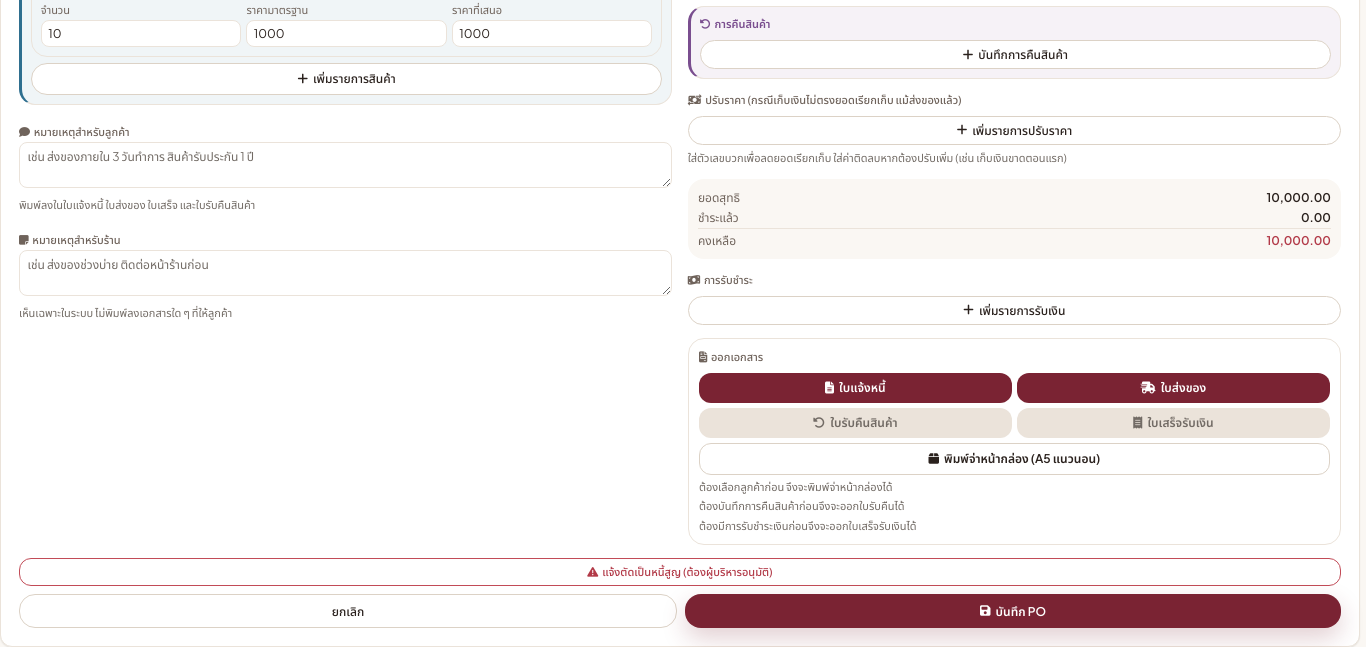
Test: WholesaleDetail — เอกสารขายส่ง › asks for การจัดส่ง before ใบส่งของ is issued the first time
(page scrolled)
Click the button "ใบส่งของ".
click(1173, 388)  # box x1=1017 y1=373 x2=1330 y2=403
(page scrolled)
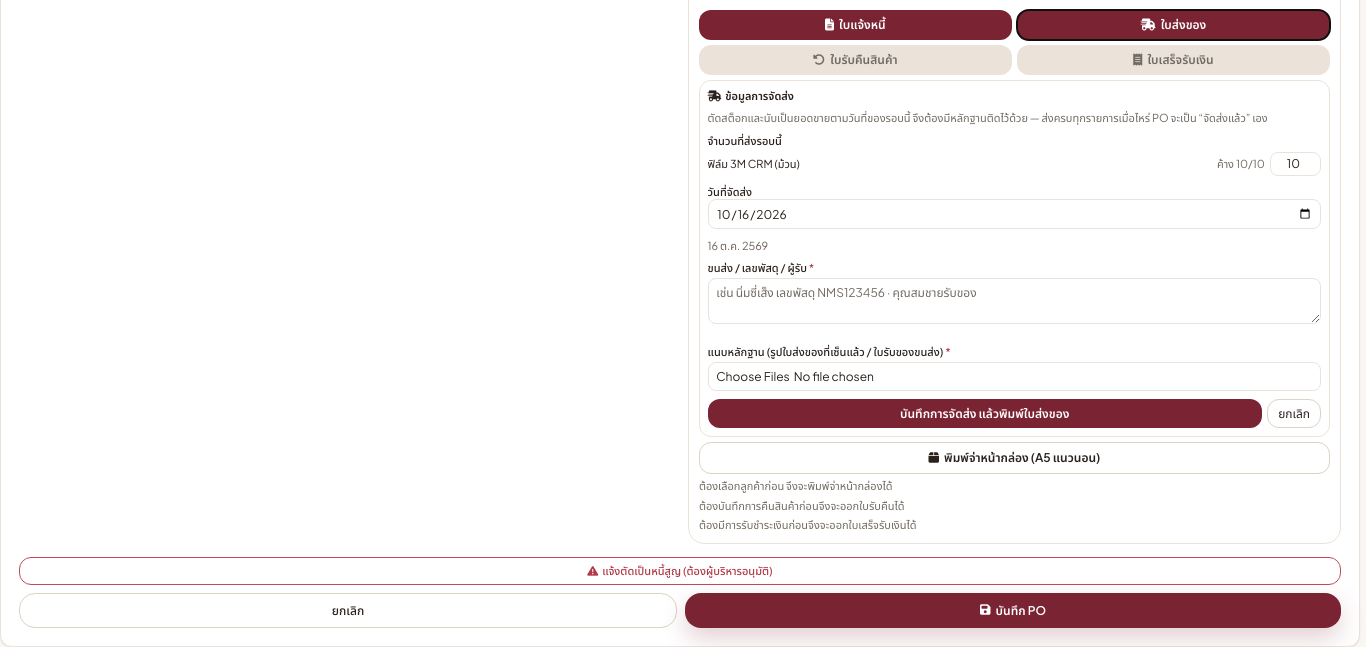
Now the text box labelled "ขนส่ง / เลขพัสดุ / ผู้รับ *" is shown, box x1=708 y1=278 x2=1321 y2=324
